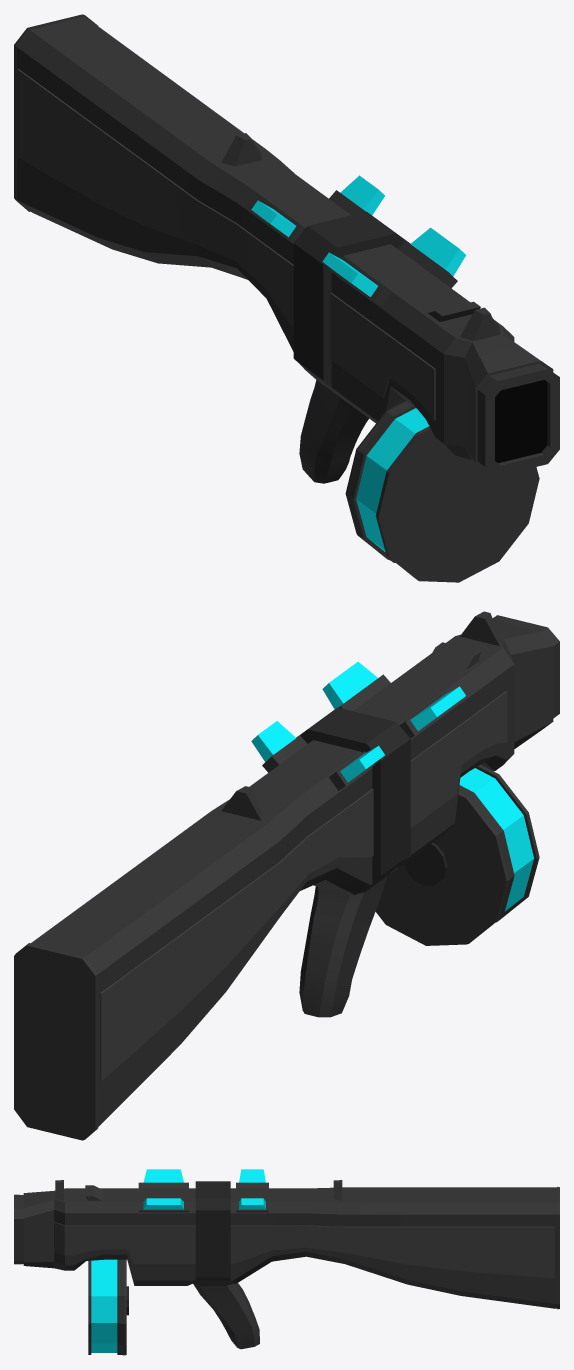
Rendered from AutoShotgun.fbx.
3 renders of one model, top to bottom at view 1: azimuth 30°, elevation 25°; view 2: azimuth 150°, elevation 25°; view 3: azimuth 270°, elevation 25°, orthographic. The views are drawn at different scales.
Visible parts, largest first — view 1: AutoShotgun; view 2: AutoShotgun; view 3: AutoShotgun.
Boxes of the visible parts, x1,y1,x2,y2 form: AutoShotgun: [14, 14, 559, 582]; AutoShotgun: [14, 611, 559, 1140]; AutoShotgun: [14, 1169, 559, 1355].
Bounding box in the file's own units: 15.92 × 27.08 × 79.21.
